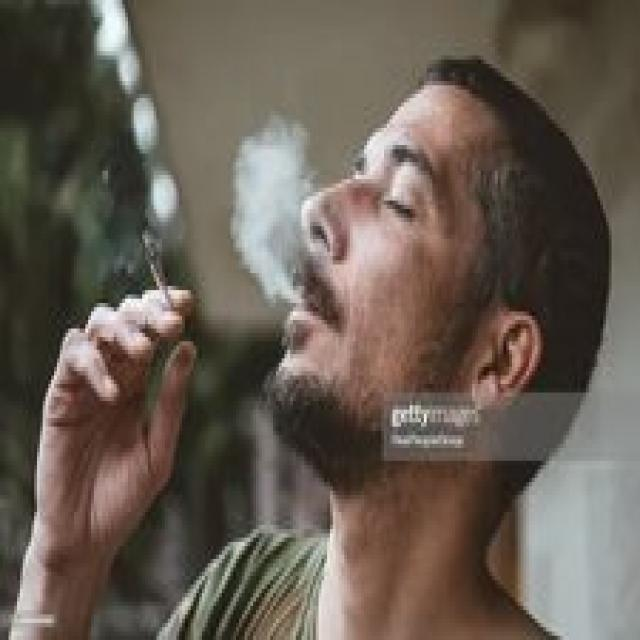cigarette: (137, 230, 179, 320)
